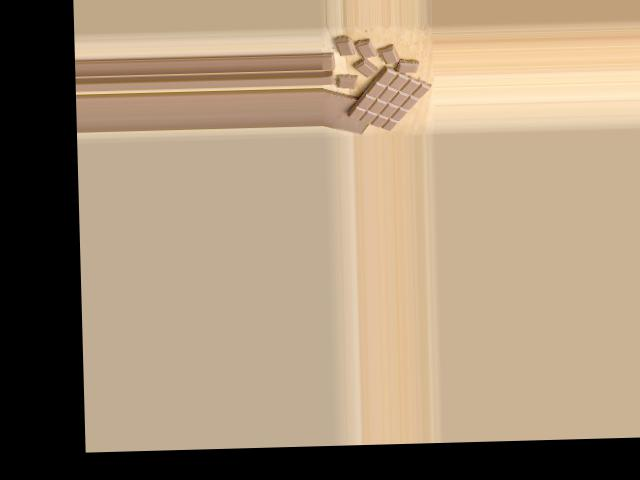chocolate: (346, 61, 429, 132)
